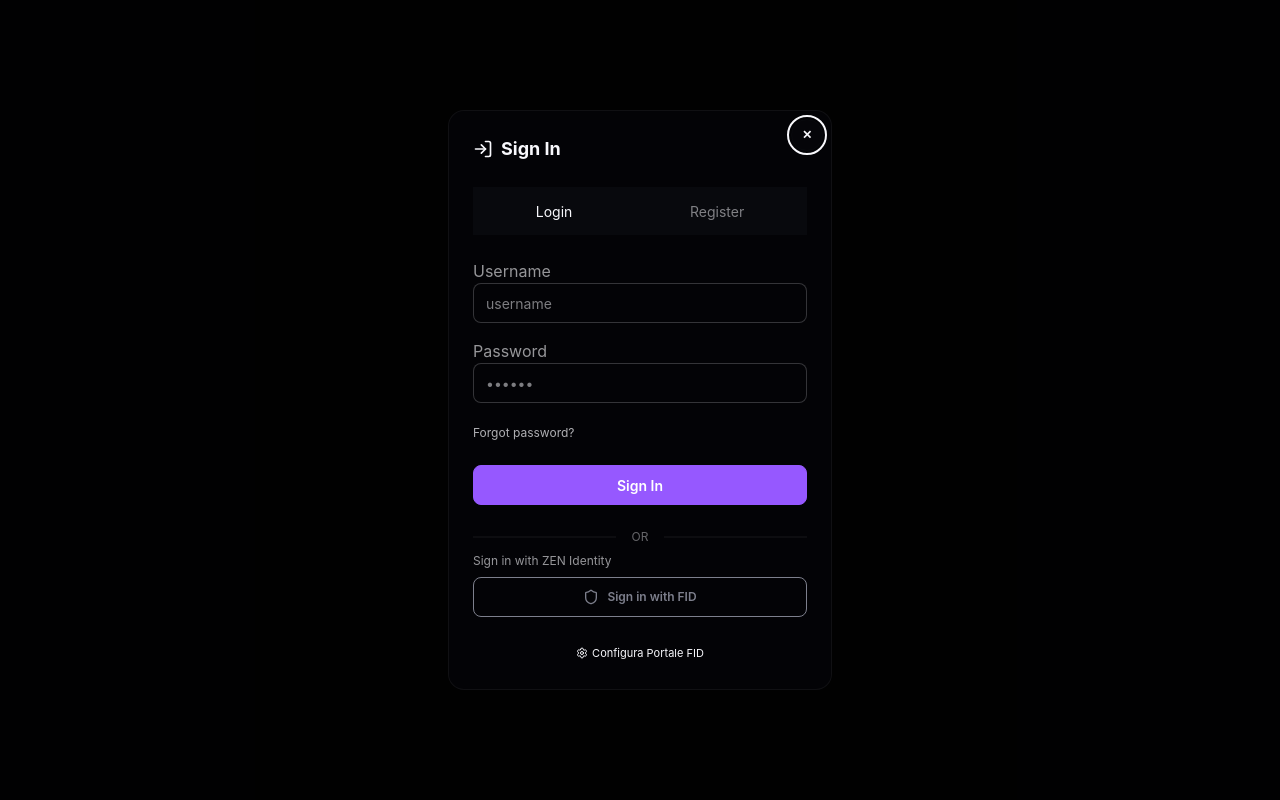
Test: AuthModal › switches to forgot password mode
Expected: the field labelled "Username" is shown, [473,283,807,323]
Click the button "Forgot password?" at (524,433), box [473,425,574,441]
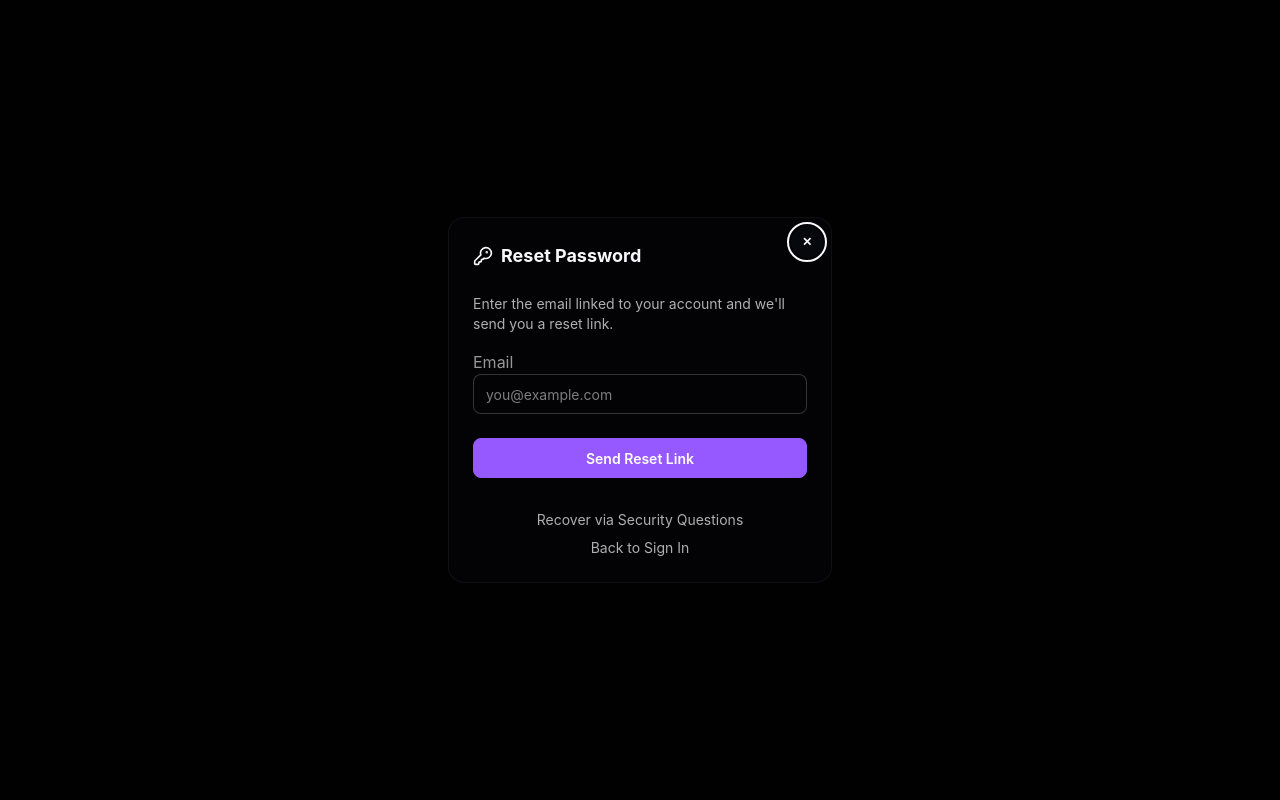
Result: the heading "Reset Password" is shown at [473,245,641,266]
Result: the field labelled "Email" is shown at [473,374,807,414]
